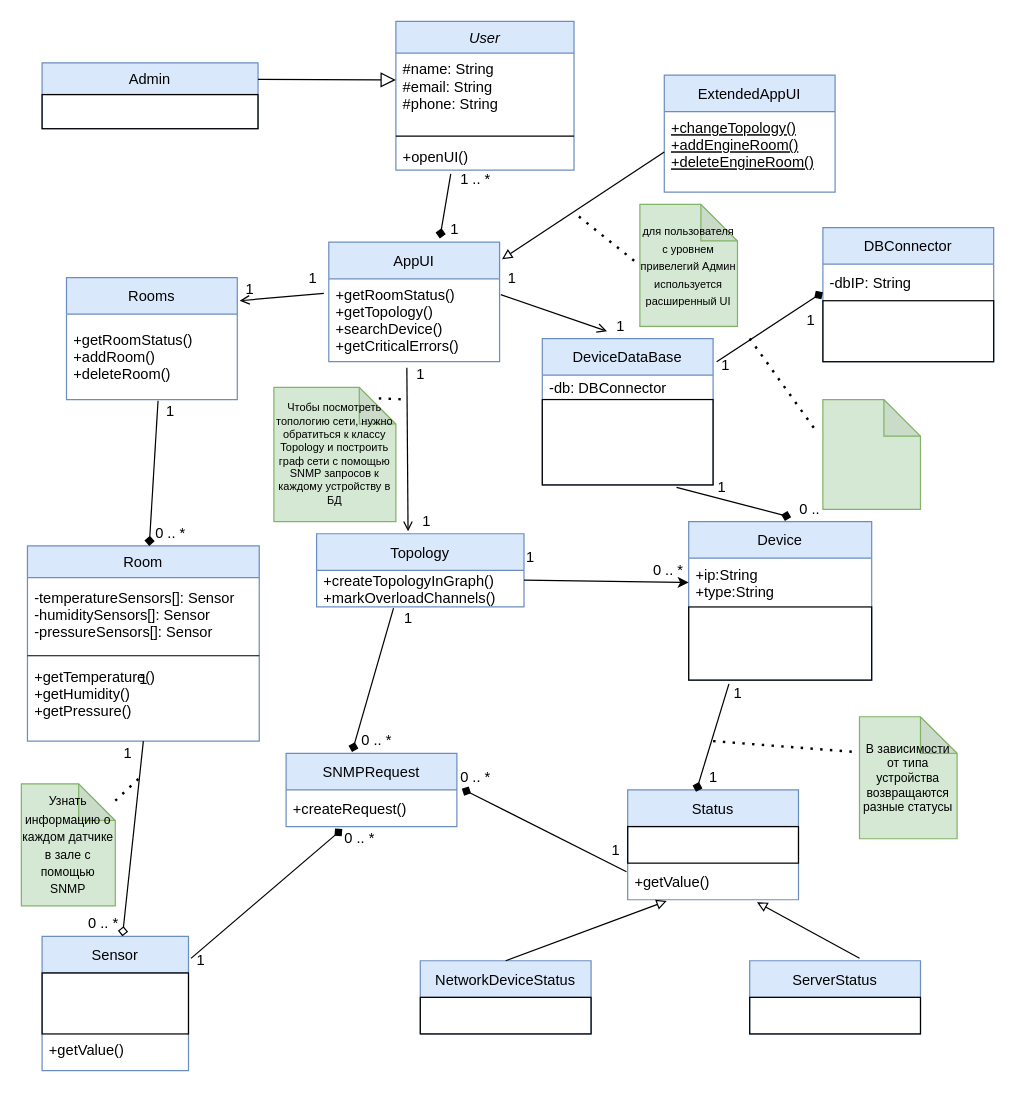
This 1015x1096 diagram has some shape labels left out. The shapes that lost their labels are listed below. From the top down, each one's centre as x and y in pixels, then its label:
point (149, 111): +openExtendedUI()
point (908, 331): +SQLRequest() +connect() +closeConnection()
point (627, 441): +searchDevice() +addDevice() +deleteDevice()
point (871, 453): все устройства, точнее их IP хранятся в специальной БД
point (779, 643): +connectBySSH() +connectByTelnet() +getStatus()
point (712, 844): #OIDs[]
point (114, 1003): -IP: String -OID: String
point (505, 1015): -linkStatus: String -cpuStatus: String
point (834, 1015): -osType:String -diskSpaceStatus: String
